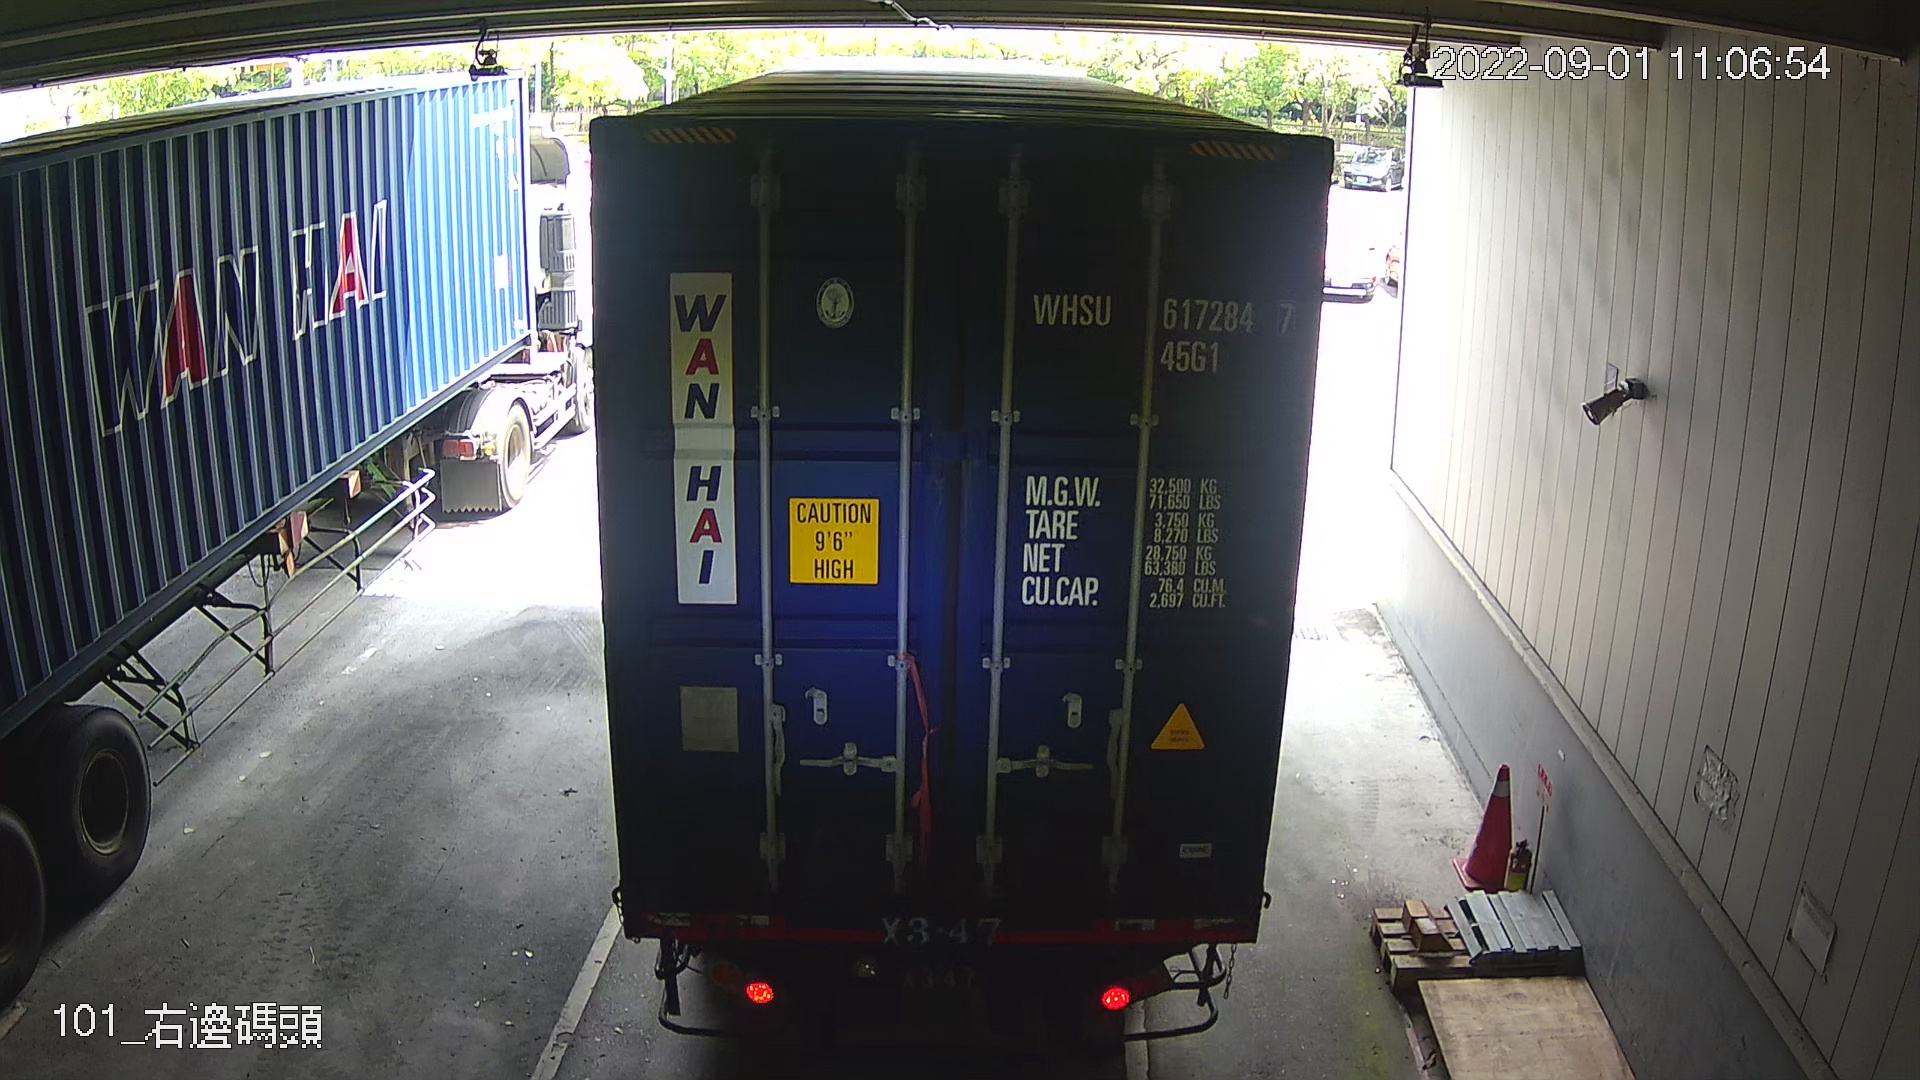container: (1025, 281, 1302, 382)
